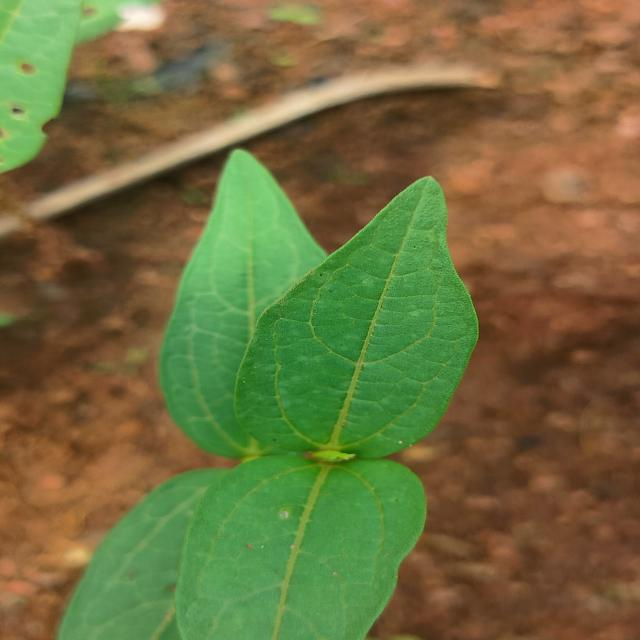Black gram_healthy: (227, 176, 477, 458), (178, 446, 426, 640)
